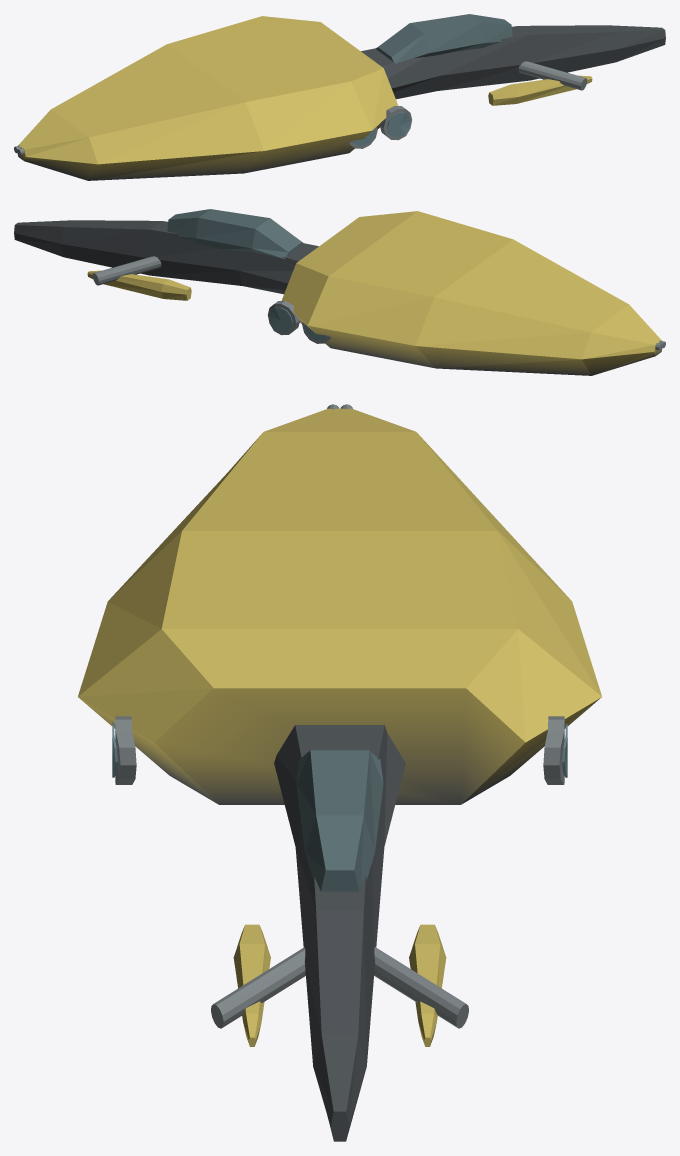
Rendered from opal_jet_yellow_off.glb.
3 views of the same model, one above another, from view 1: azimuth 30°, elevation 25°; view 2: azimuth 150°, elevation 25°; view 3: azimuth 270°, elevation 25° (orthographic). The views are drawn at different scales.
Visible parts, largest first — view 1: rear_lower_hull_0, front_spar_1, cockpit_shell_2, folded_pods_5, outrigger_support_4, side_thruster_face_7, side_thruster_casing_6; view 2: rear_lower_hull_0, front_spar_1, cockpit_shell_2, folded_pods_5, outrigger_support_4, side_thruster_face_7, side_thruster_casing_6; view 3: rear_lower_hull_0, front_spar_1, cockpit_shell_2, outrigger_support_4, folded_pods_5, side_thruster_casing_6.
Part boxes in pixels (x1,y1,x2,y2): rear_lower_hull_0: (17, 16, 398, 180); front_spar_1: (361, 25, 665, 99); cockpit_shell_2: (376, 14, 512, 63); folded_pods_5: (488, 75, 592, 105); outrigger_support_4: (518, 61, 586, 90); side_thruster_face_7: (353, 112, 410, 145); side_thruster_casing_6: (349, 106, 411, 148); rear_lower_hull_0: (281, 211, 662, 375); front_spar_1: (14, 220, 318, 294); cockpit_shell_2: (167, 209, 304, 258); folded_pods_5: (87, 270, 191, 300); outrigger_support_4: (93, 256, 161, 285); side_thruster_face_7: (269, 307, 326, 340); side_thruster_casing_6: (268, 301, 331, 343); rear_lower_hull_0: (78, 408, 601, 804); front_spar_1: (274, 725, 405, 1141); cockpit_shell_2: (296, 750, 383, 891); outrigger_support_4: (211, 947, 468, 1028); folded_pods_5: (233, 924, 446, 1046); side_thruster_casing_6: (115, 716, 564, 784).
Bounding box in the file's own units: 9.96 × 1.25 × 3.5.
